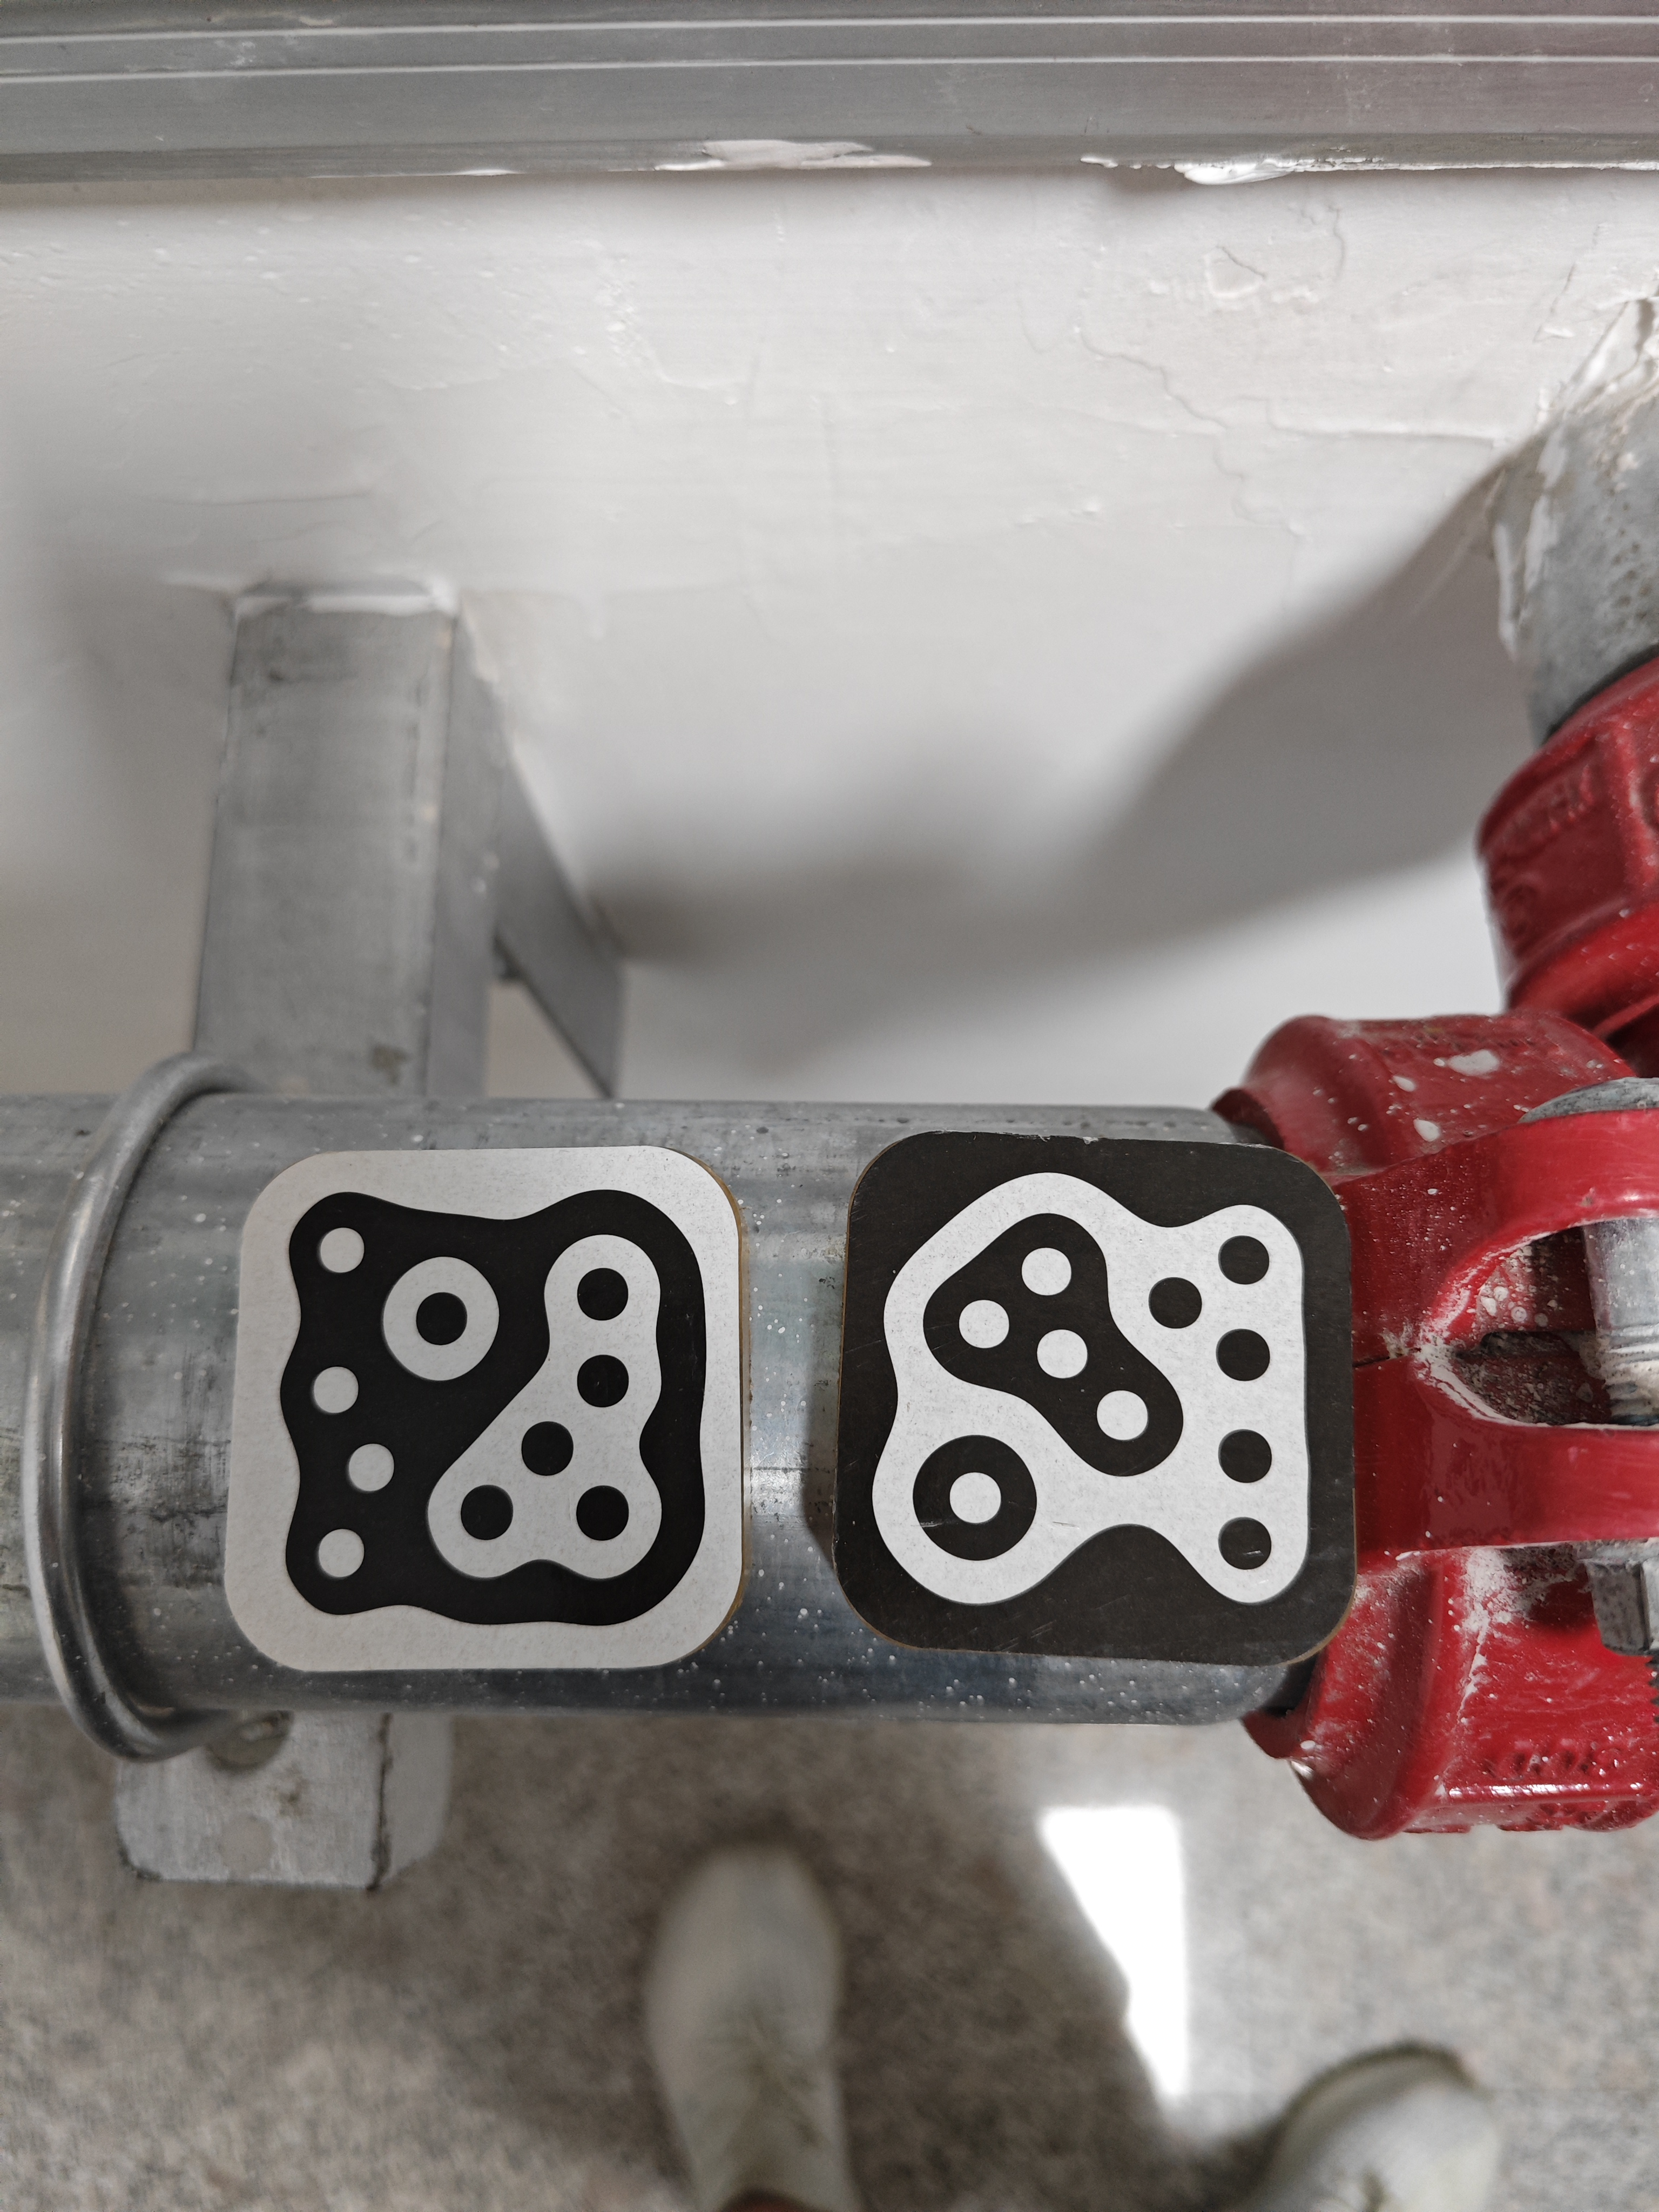mark1: (277, 1188, 716, 1634)
mark2: (873, 1155, 1326, 1627)
